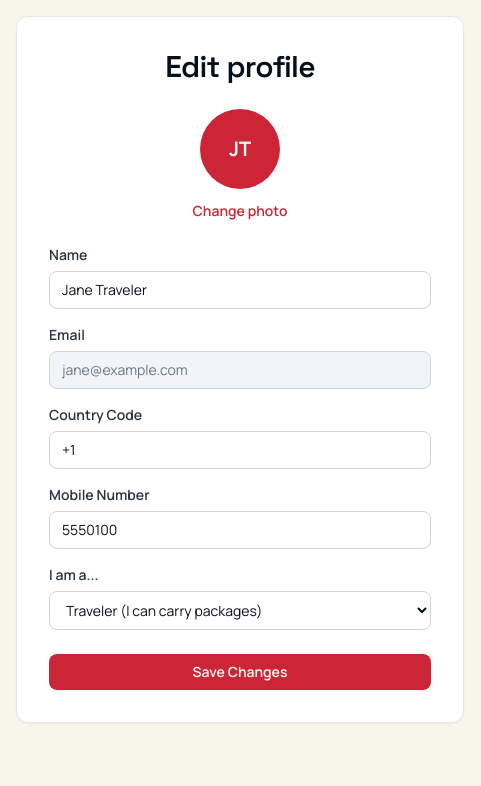
Test: shows an error message when the update request fails
expect the field showing "Jane Traveler" is shown: met, box x1=49 y1=271 x2=431 y2=309
Click the button "Save Changes". click: (240, 672)
box: x1=49 y1=654 x2=431 y2=690
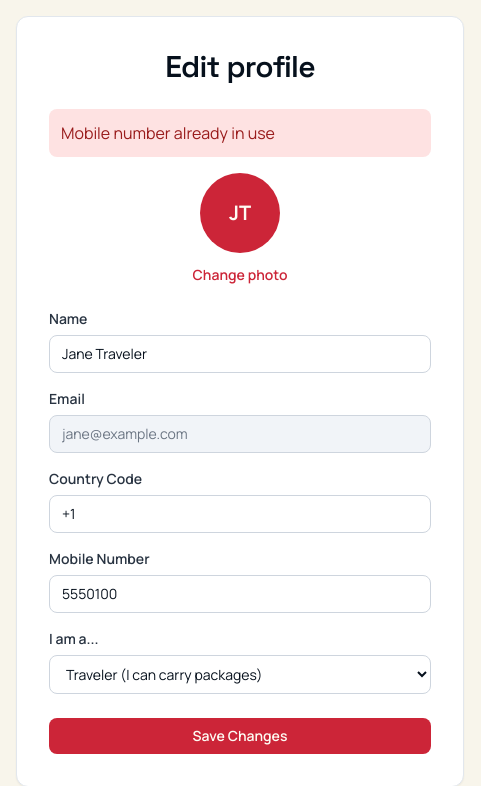
expect the text "Mobile number already in use" is shown: met, box x1=49 y1=109 x2=431 y2=157
